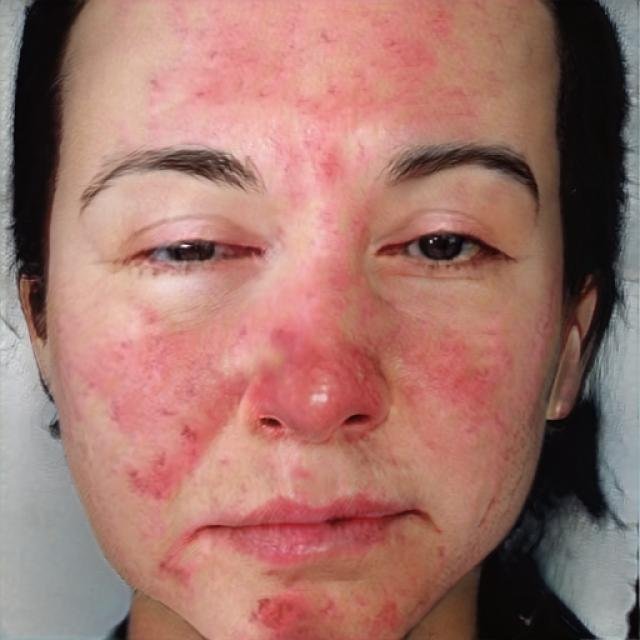Rosacea: (132, 6, 474, 142), (66, 322, 252, 500), (278, 143, 357, 329), (396, 330, 518, 450), (249, 326, 386, 425), (241, 593, 409, 640)
